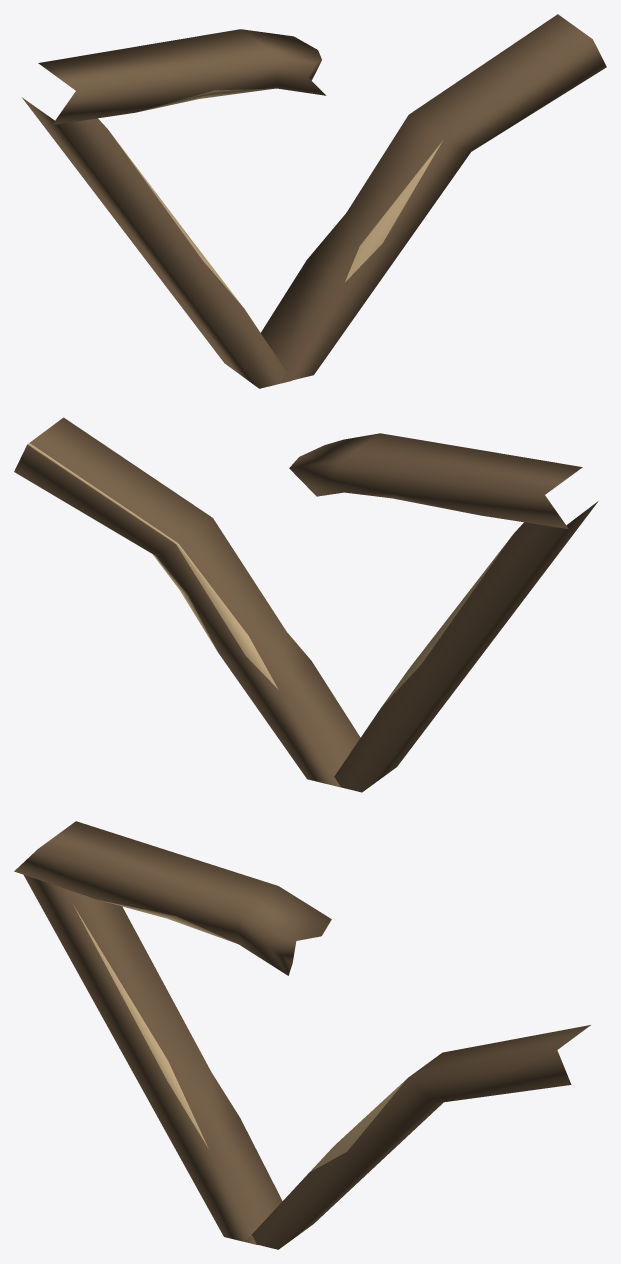
The model's file is rpgpp_av_roof_end_01_9x4_wall_beam_d.gltf.
3 views of the same model, one above another, from view 1: azimuth 30°, elevation 25°; view 2: azimuth 150°, elevation 25°; view 3: azimuth 330°, elevation 25° (orthographic).
Visible parts, largest first — view 1: rpgpp_av_roof_end_01_9x4_wall_beam_d; view 2: rpgpp_av_roof_end_01_9x4_wall_beam_d; view 3: rpgpp_av_roof_end_01_9x4_wall_beam_d.
Boxes of the visible parts, x1,y1,x2,y2 form: rpgpp_av_roof_end_01_9x4_wall_beam_d: (22,14,606,388); rpgpp_av_roof_end_01_9x4_wall_beam_d: (14,417,598,792); rpgpp_av_roof_end_01_9x4_wall_beam_d: (14,821,590,1249).
Bounding box in the file's own units: 0.0475 × 0.0281 × 0.00562.
1 material, 1 textured.
